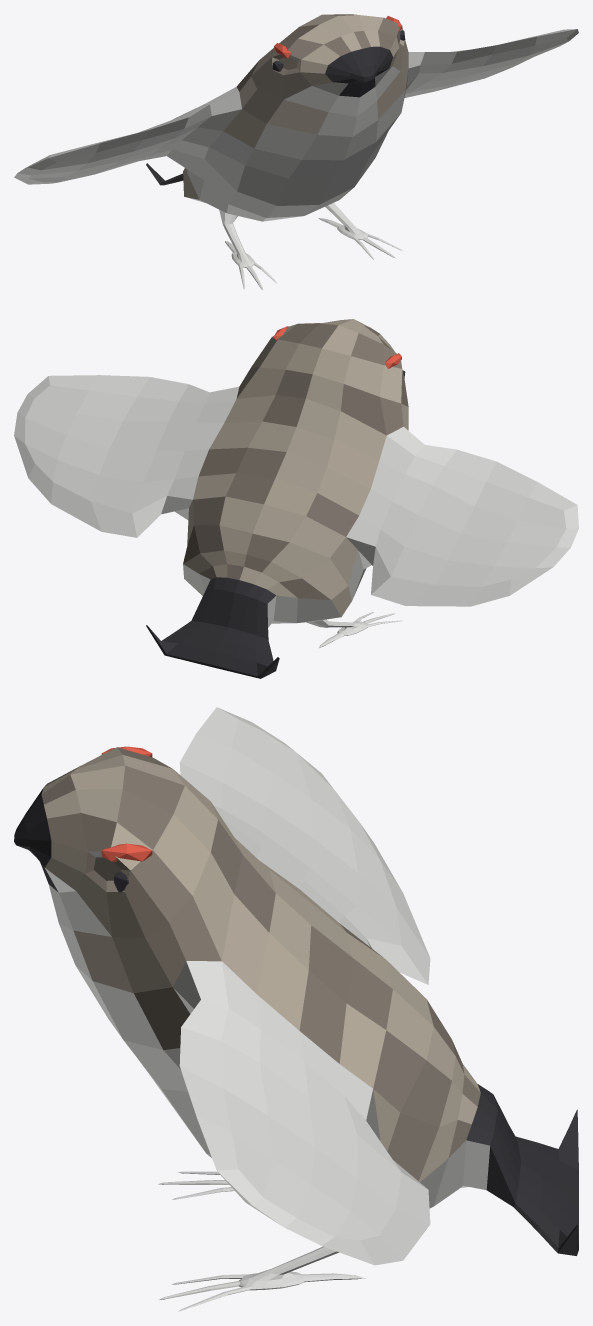
File: lagopode.glb
3 views of the same model, one above another, from view 1: azimuth 30°, elevation 25°; view 2: azimuth 150°, elevation 25°; view 3: azimuth 270°, elevation 25° (orthographic). The views are drawn at different scales.
Parts seen in each view (by area): view 1: corpo, asaD, asaE, pernas, olhos; view 2: corpo, asaD, asaE, pernas; view 3: corpo, asaE, asaD, pernas, olhos.
Boxes of the visible parts, x1=… form: corpo: x1=146, y1=14, x2=408, y2=221; asaD: x1=14, y1=87, x2=254, y2=199; asaE: x1=404, y1=29, x2=578, y2=97; pernas: x1=219, y1=202, x2=402, y2=290; olhos: x1=272, y1=16, x2=405, y2=71; corpo: x1=146, y1=319, x2=408, y2=678; asaD: x1=346, y1=426, x2=578, y2=606; asaE: x1=14, y1=375, x2=239, y2=537; pernas: x1=306, y1=612, x2=402, y2=648; corpo: x1=14, y1=747, x2=578, y2=1255; asaE: x1=163, y1=961, x2=430, y2=1265; asaD: x1=179, y1=707, x2=430, y2=984; pernas: x1=158, y1=1171, x2=364, y2=1311; olhos: x1=101, y1=746, x2=152, y2=892.
Size of the model in its own units: 0.6903 by 0.3164 by 0.34.
